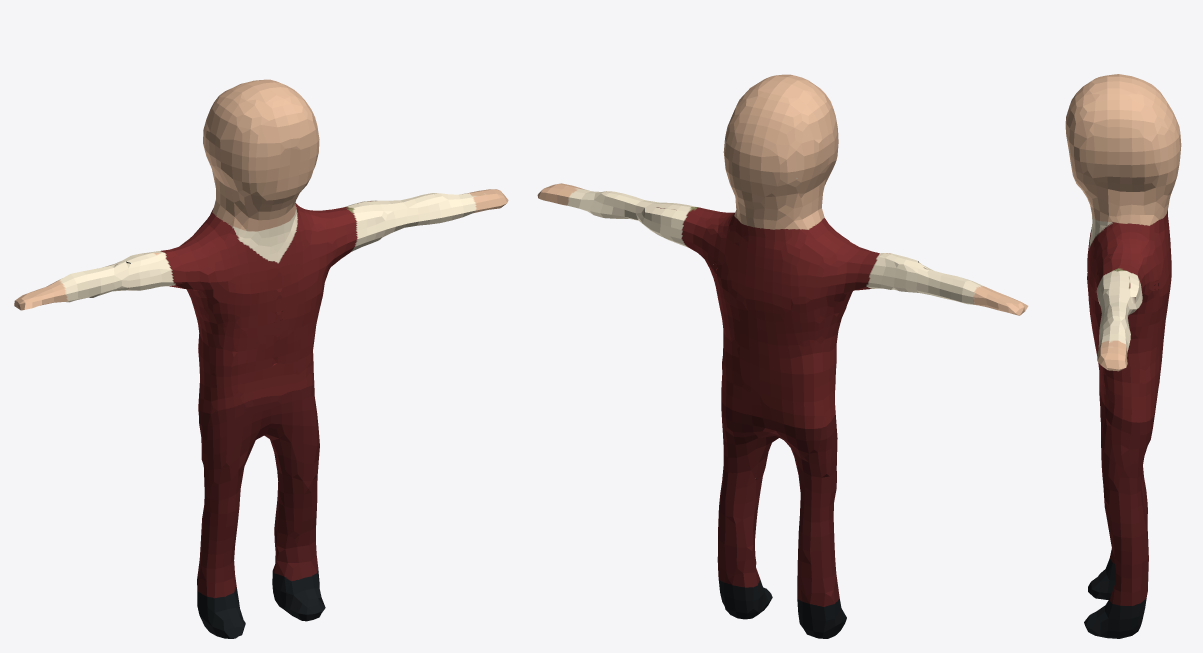
Rendered from man_4.fbx.
3 views of the same model, side by side, from view 1: azimuth 30°, elevation 25°; view 2: azimuth 150°, elevation 25°; view 3: azimuth 270°, elevation 25° (orthographic).
Visible parts, largest first — view 1: Man_.004; view 2: Man_.004; view 3: Man_.004.
Part boxes in pixels (<box>): Man_.004: <box>14,79,508,638</box>; Man_.004: <box>537,74,1028,638</box>; Man_.004: <box>1065,74,1181,638</box>.
Size of the model in its own units: 472 by 548 by 111.
Materials: 1 (1 with a texture image).
